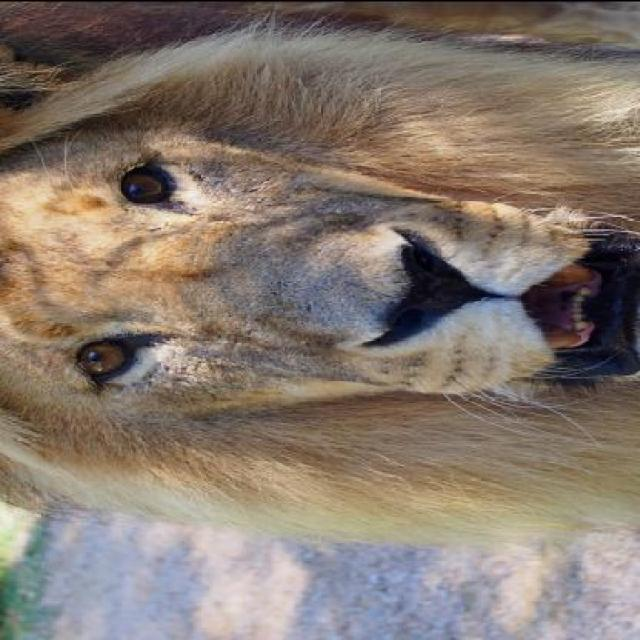Lion: (11, 8, 638, 543)
